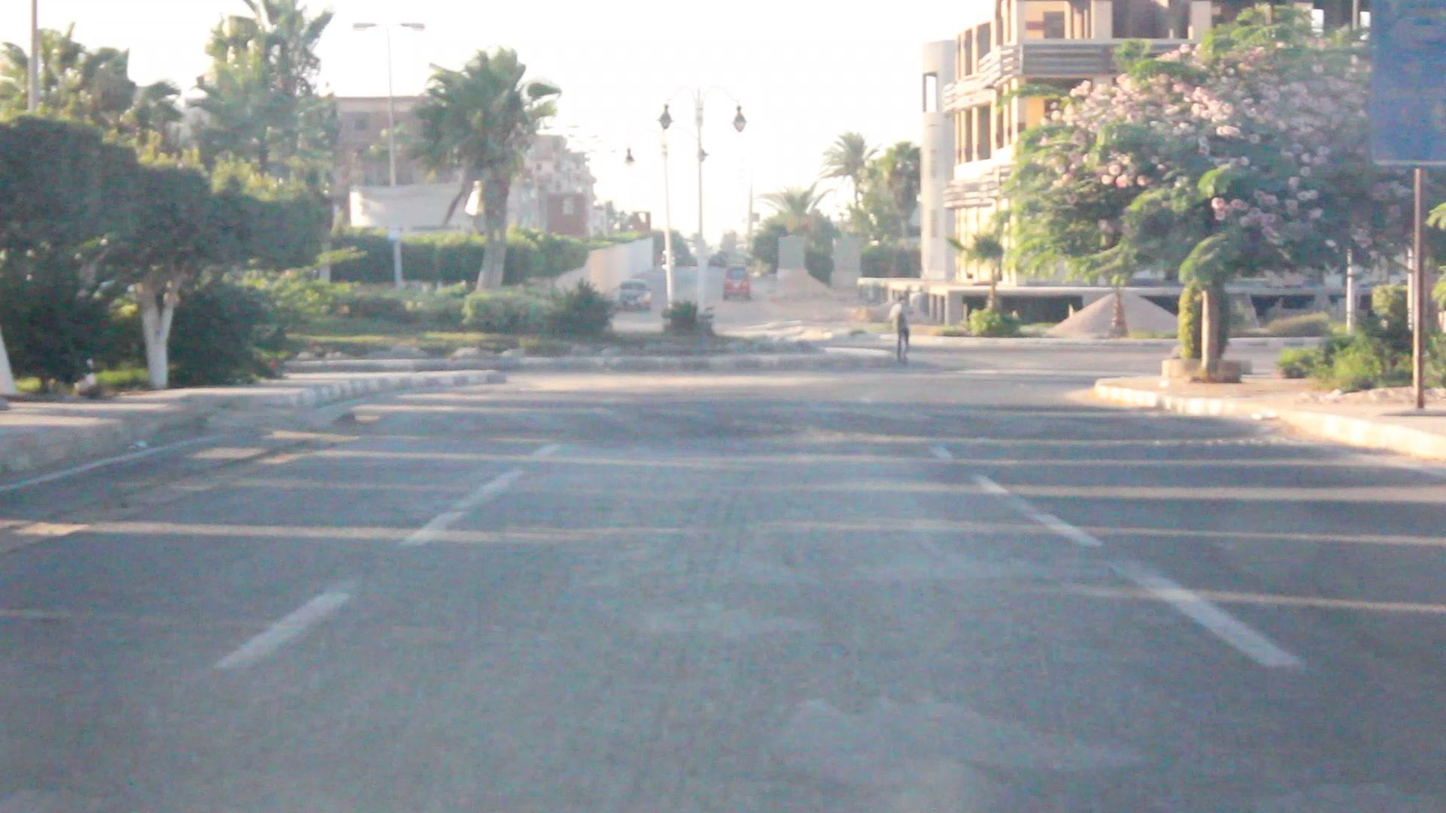Bump: (354, 405, 1152, 440)
